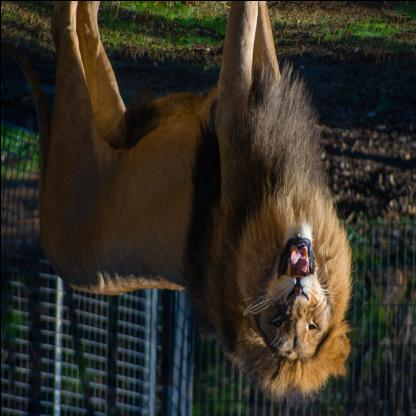lion: (229, 178, 352, 398)
